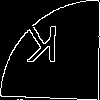K: (25, 25, 59, 72)
